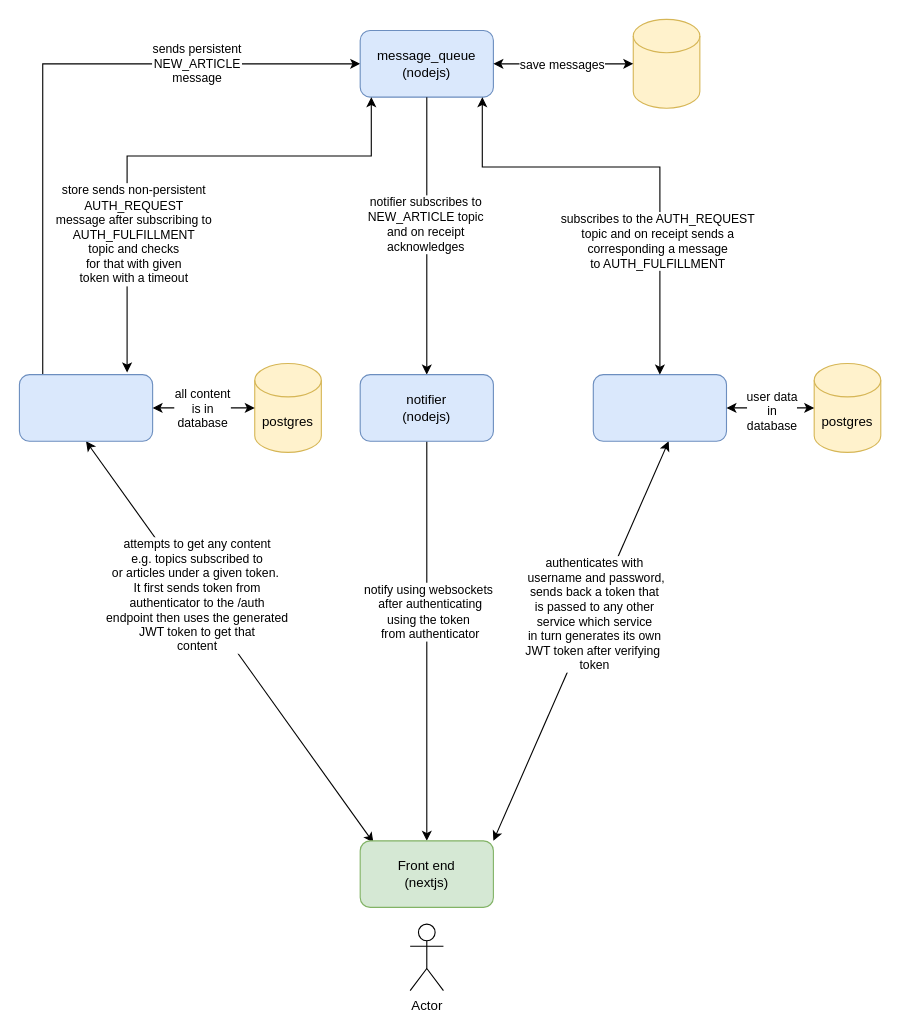
This 900x1033 diagram has some shape labels left out. Here are the shapes that lost their labels. From the top down, the box of each, then its label:
(632, 18, 700, 108): mongodb
(18, 374, 153, 441): store (python)
(592, 374, 726, 441): authenticator (nodejs)
